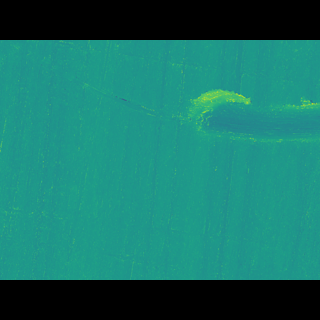Loch: (7, 70, 187, 134), (183, 105, 320, 151)
